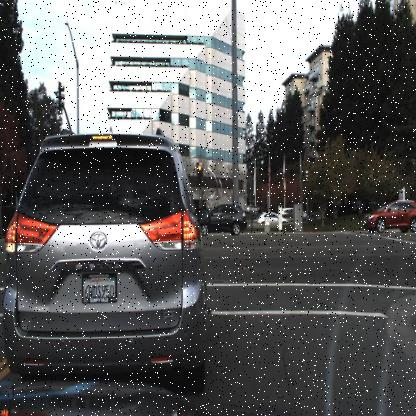car: (0, 126, 214, 396), (358, 193, 416, 239), (198, 201, 248, 240), (256, 210, 288, 229)
trafficLight-Red: (198, 164, 203, 180)
